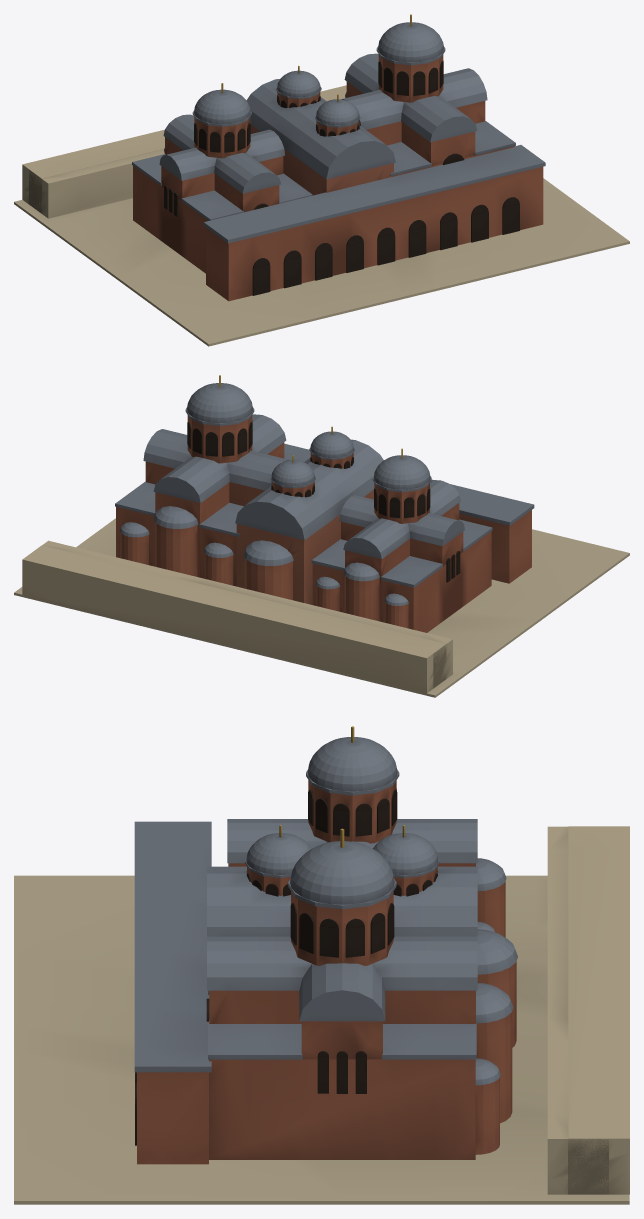
The model's file is pantokrator.glb.
3 renders of one model, top to bottom at view 1: azimuth 30°, elevation 25°; view 2: azimuth 150°, elevation 25°; view 3: azimuth 270°, elevation 25°, orthographic. The views are drawn at different scales.
Parts seen in each view (by area): view 1: p1_churches, p2_domes, p0_churches, p3_monastery; view 2: p1_churches, p3_monastery, p0_churches, p2_domes; view 3: p1_churches, p0_churches, p2_domes, p3_monastery.
Part boxes in pixels (bbox=[...]): p1_churches: bbox=[132, 14, 515, 273]; p2_domes: bbox=[203, 65, 545, 301]; p0_churches: bbox=[14, 178, 629, 346]; p3_monastery: bbox=[22, 85, 346, 218]; p1_churches: bbox=[115, 375, 492, 632]; p3_monastery: bbox=[22, 540, 452, 693]; p0_churches: bbox=[14, 518, 629, 697]; p2_domes: bbox=[244, 426, 534, 600]; p1_churches: bbox=[206, 726, 513, 1159]; p0_churches: bbox=[14, 875, 629, 1204]; p2_domes: bbox=[134, 821, 517, 1164]; p3_monastery: bbox=[547, 826, 629, 1194].
Size of the model in its own units: 75 by 30.8 by 60.03.
